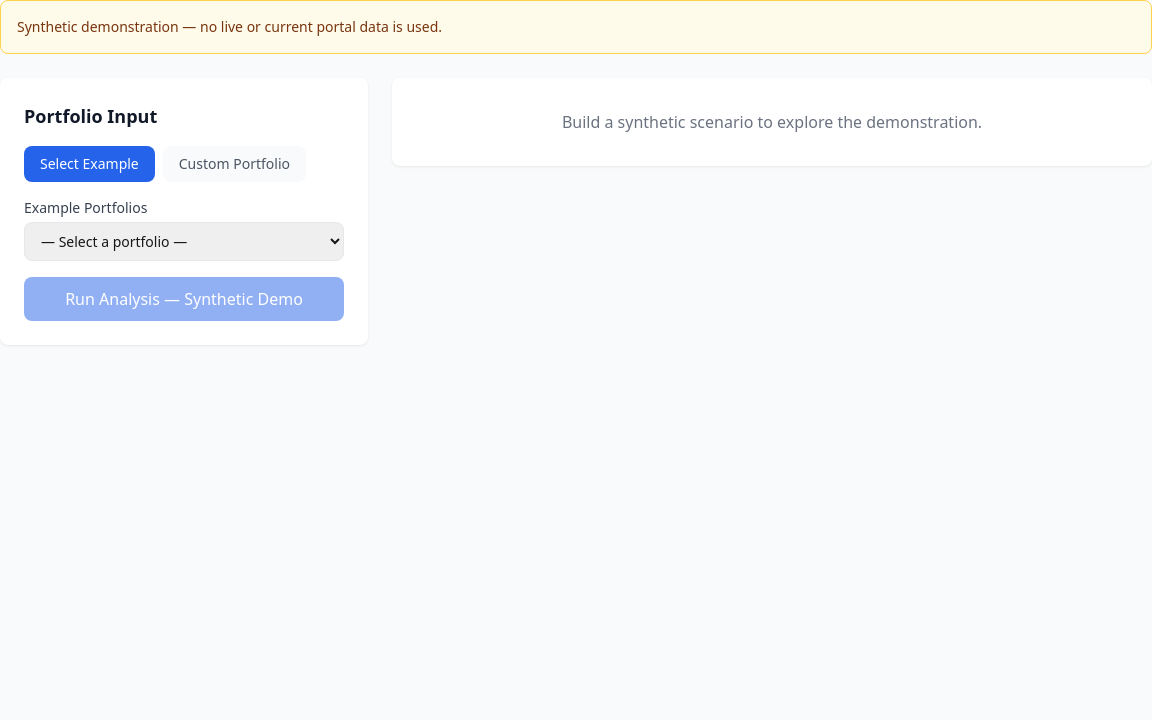
shows the explanation and generated report for a successful zero-assessment run
Click the button "Custom Portfolio": [234, 164] box [163,146,306,182]
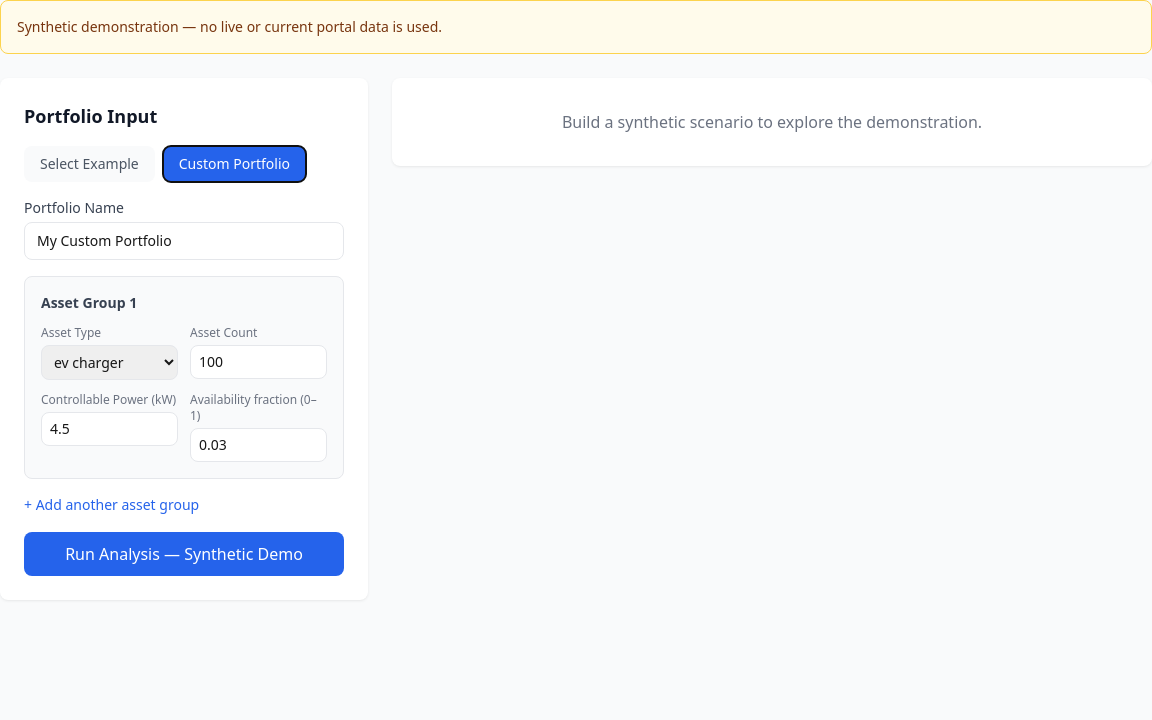
Click the button "Run Analysis — Synthetic Demo": [184, 554] box [24,532,344,576]
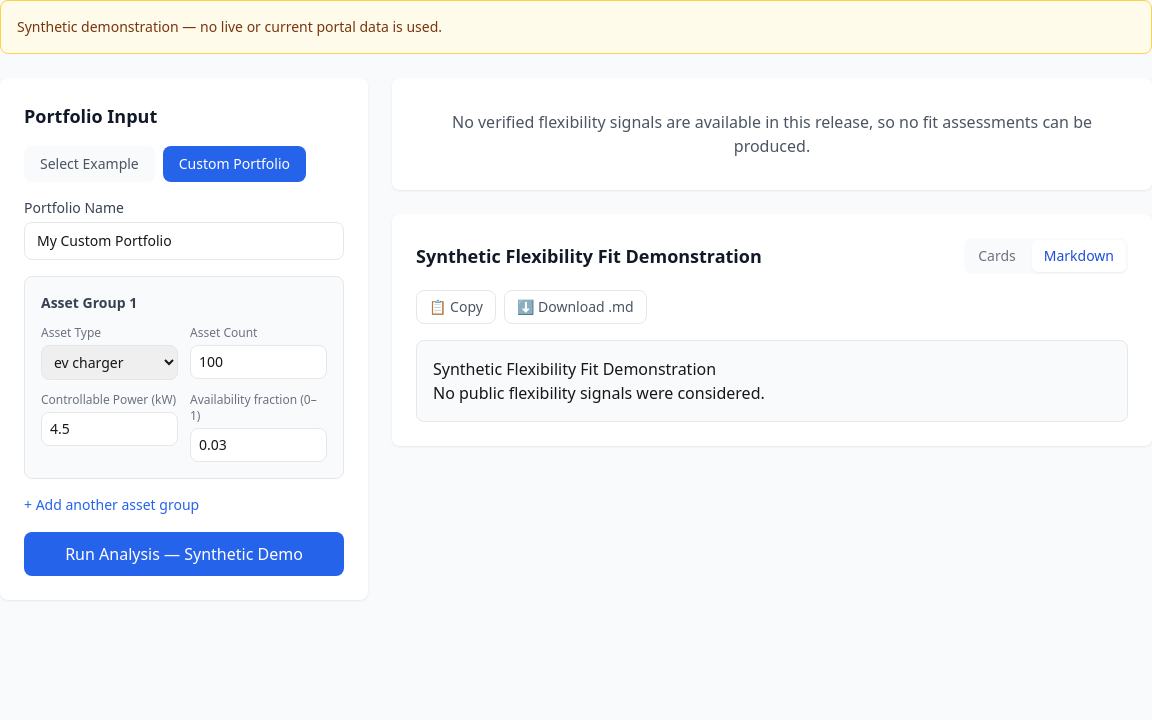
Expected: the 2nd heading "Synthetic Flexibility Fit Demonstration" is shown, [433,358,716,380]
Expected: the text "No public flexibility signals were considered." is shown, [433,382,765,404]
Expected: the button "⬇️ Download .md" is shown, [504,290,647,324]
